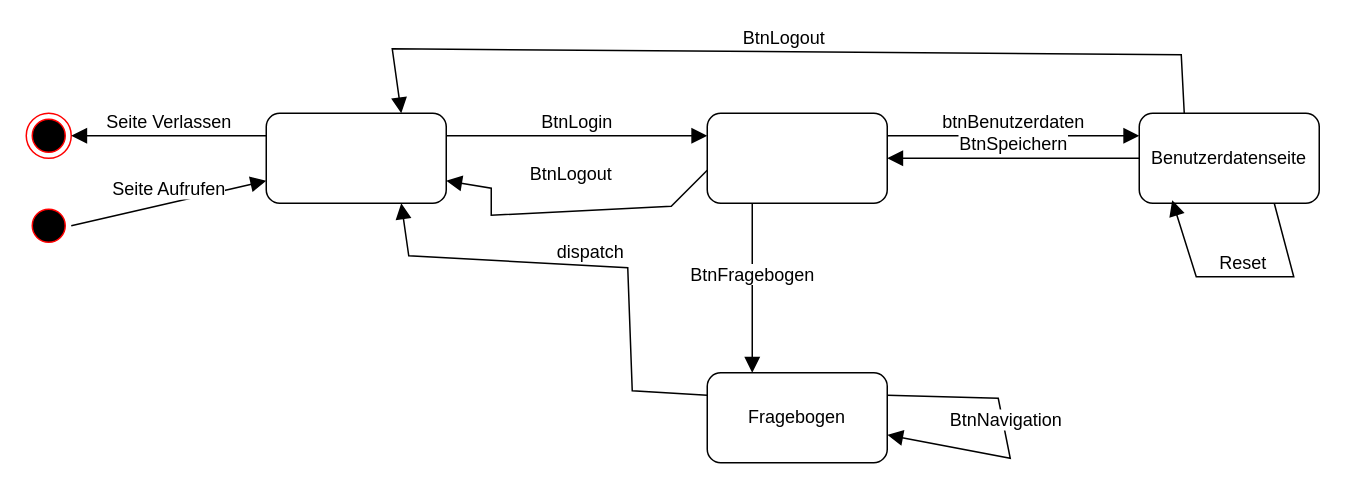
This 1346x500 diagram has some shape labels left out. The centre of each missing label's shape, as x and y in pixels:
Funktionsauswahl: pixel 796 157
Loginmaske anzeigend: pixel 355 157
